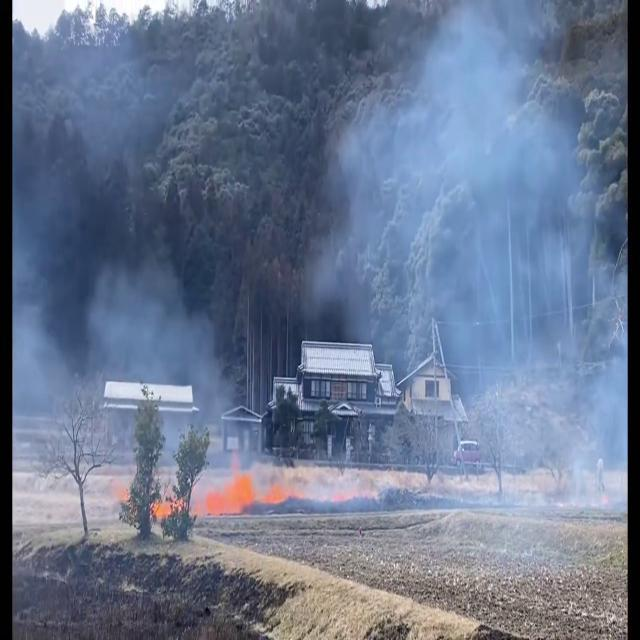Smoke: (282, 0, 627, 598), (386, 1, 626, 598), (13, 7, 245, 497)
